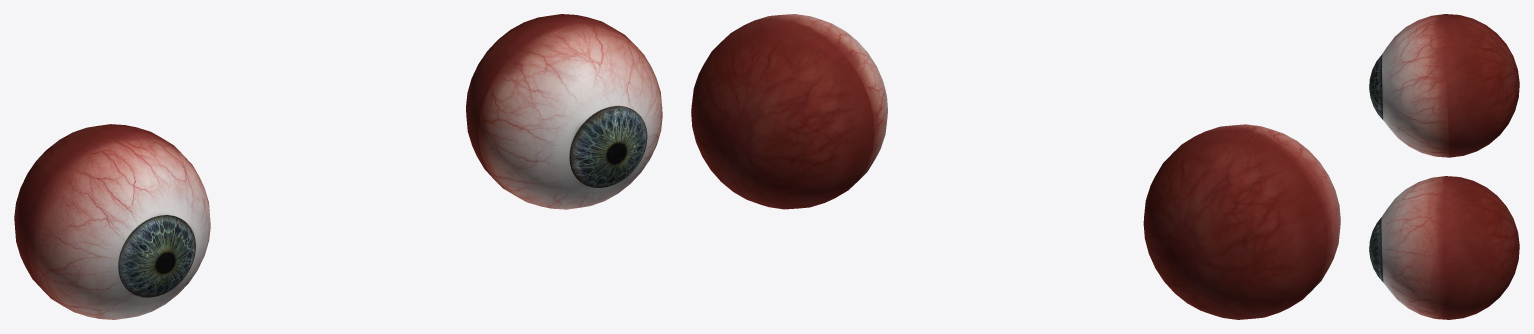
Rendered from SMPLX_Eyes.glb.
3 renders of one model, left to right at view 1: azimuth 30°, elevation 25°; view 2: azimuth 150°, elevation 25°; view 3: azimuth 270°, elevation 25°, orthographic. The views are drawn at different scales.
Parts seen in each view (by area): view 1: SMPLX_Eyes; view 2: SMPLX_Eyes; view 3: SMPLX_Eyes.
Part boxes in pixels (x1,y1,x2,y2): SMPLX_Eyes: (14,14,662,319); SMPLX_Eyes: (691,14,1340,319); SMPLX_Eyes: (1369,14,1519,319).
Size of the model in its own units: 0.0908 by 0.0247 by 0.0259.
Materials: 1 (1 with a texture image).
